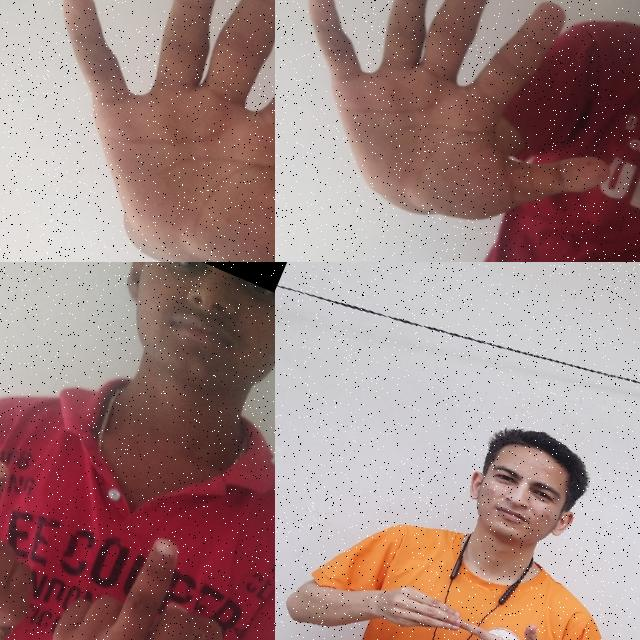Five Fathers: (345, 550, 579, 640)
Middle Finger: (24, 512, 256, 640), (0, 431, 78, 640)
Moutza: (275, 0, 640, 262), (0, 0, 275, 262)
